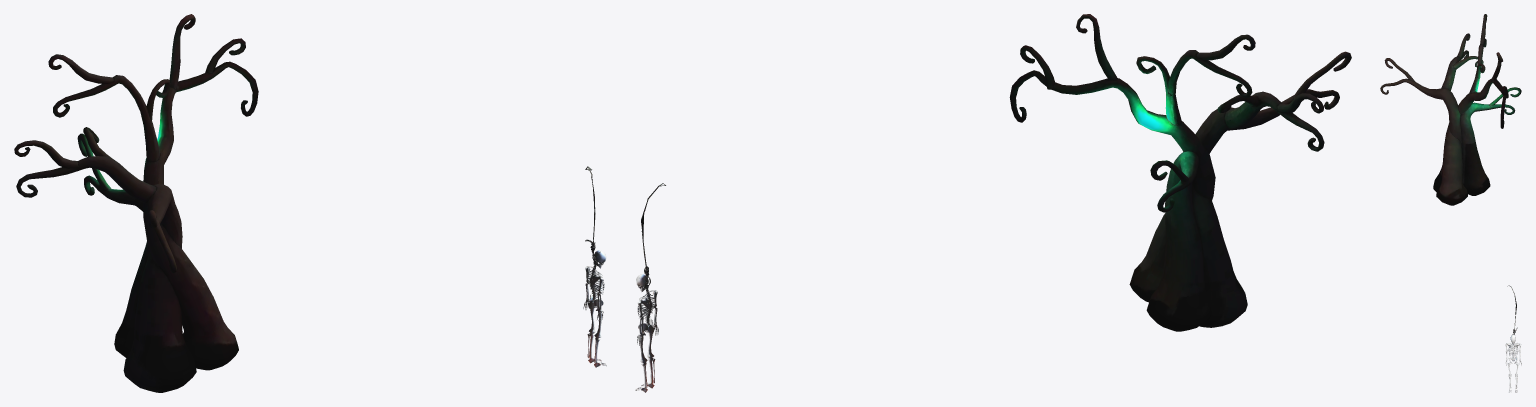
Rendered from Skeleton_Tree-transformed.glb.
3 views of the same model, side by side, from view 1: azimuth 30°, elevation 25°; view 2: azimuth 150°, elevation 25°; view 3: azimuth 270°, elevation 25° (orthographic). The views are drawn at different scales.
Visible parts, largest first — view 1: Skeleton_Baked; view 2: Skeleton_Baked; view 3: Skeleton_Baked.
Part boxes in pixels (x1,y1,x2,y2): Skeleton_Baked: [14, 14, 606, 392]; Skeleton_Baked: [635, 14, 1351, 392]; Skeleton_Baked: [1380, 14, 1521, 392].
Size of the model in its own units: 10.41 by 7.35 by 3.97.
Materials: 2 (2 with a texture image).
